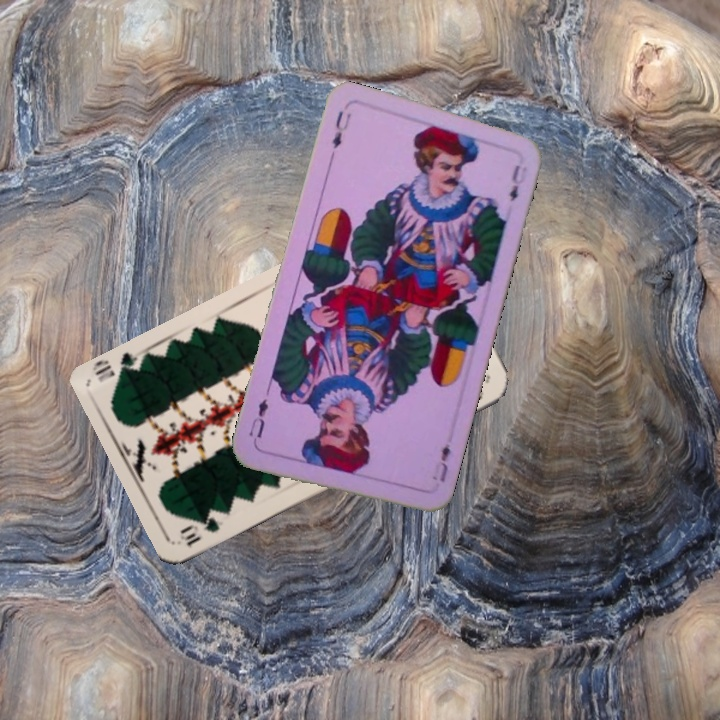EU: (325, 107, 354, 164), (435, 440, 454, 486)
G10: (175, 513, 223, 549)
